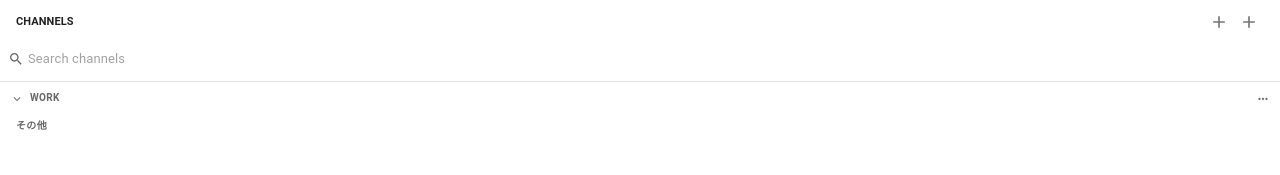
Test case: ChannelCategorySection: 折りたたみ/展開 › 折りたたまれた状態でヘッダーをクリックすると展開される
Expected: the text "# inside" is not shown
Click the element with test id "category-header-1" at {"x": 45, "y": 98}, box x1=0 y1=82 x2=1279 y2=110
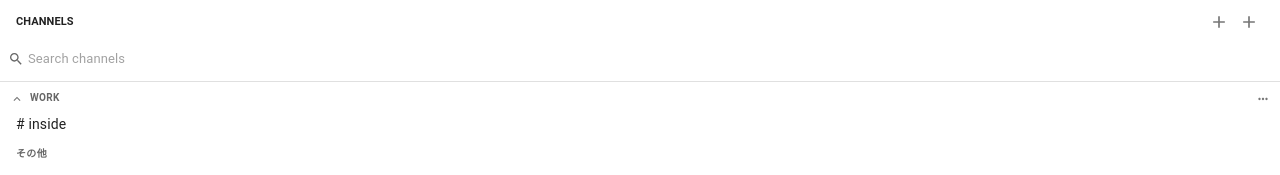
Expected: the text "# inside" is shown, x1=16 y1=116 x2=66 y2=132
